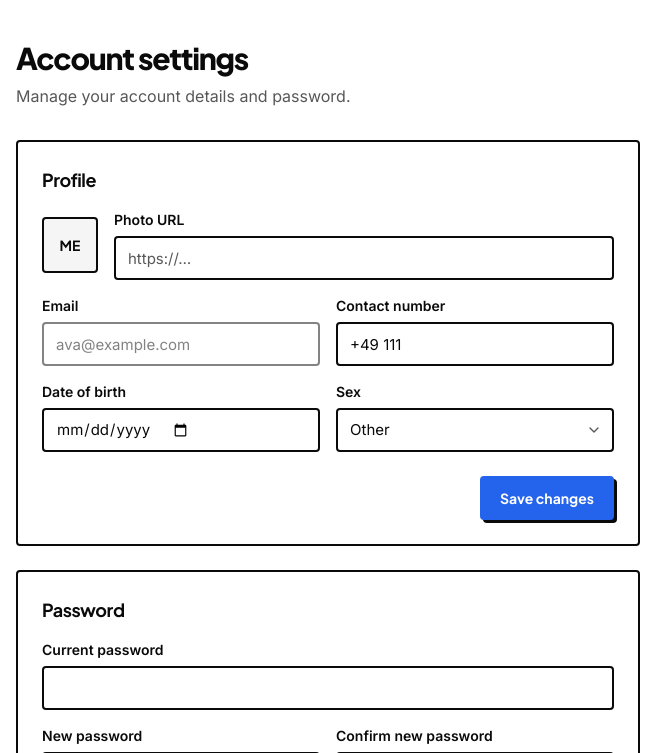
Test: Settings › changes the password, posting current/new and toasting on success
The width and height of the screenshot is (657, 753).
Type "oldpassword1" into the password field labelled "Current password" at (328, 688), box [42, 666, 614, 710]
(page scrolled)
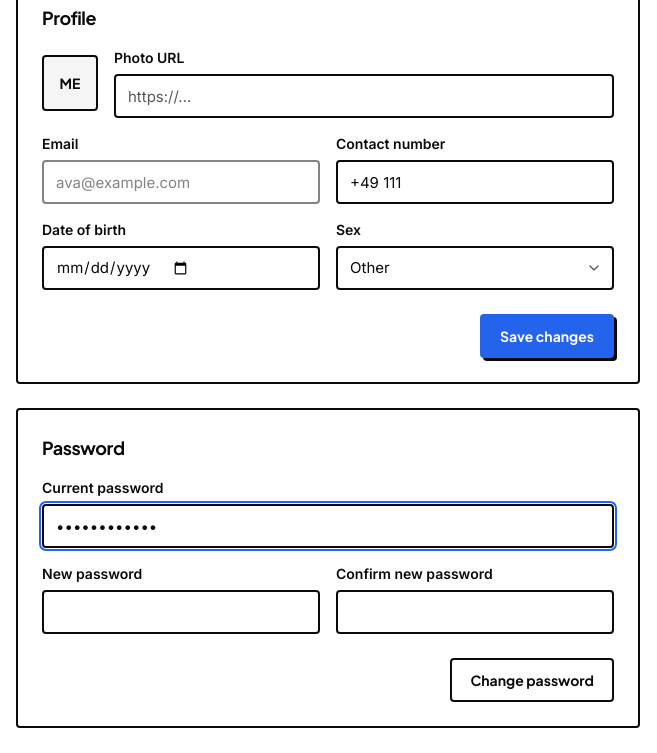
Type "newpassword1" into the password field labelled "New password" at (181, 612), box [42, 590, 320, 634]
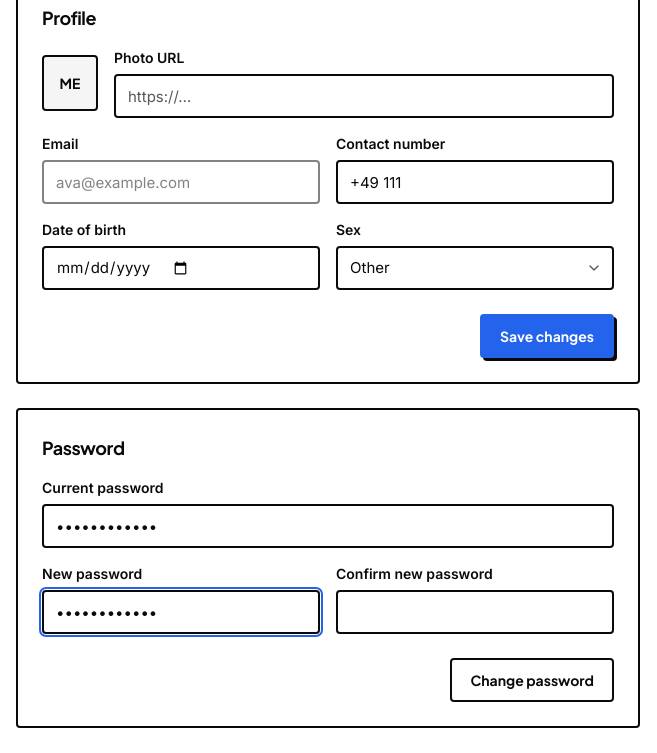
Type "newpassword1" into the password field labelled "Confirm new password" at (475, 612), box [336, 590, 614, 634]
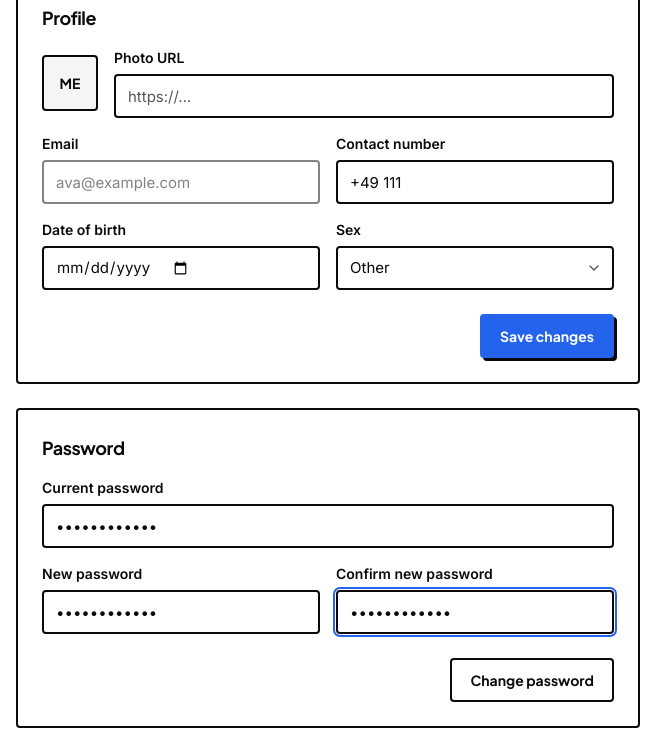
Click the button "Change password" at (532, 680), box [450, 658, 614, 702]
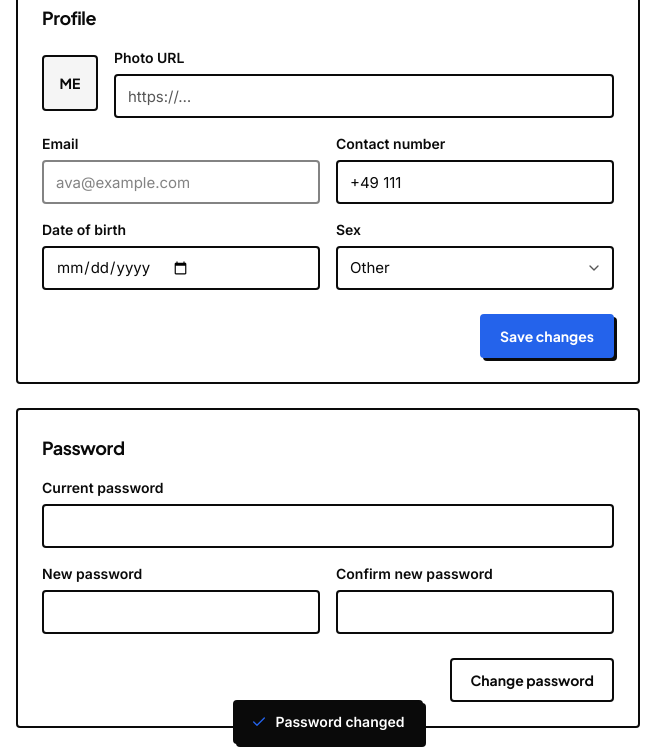
Result: the text "Password changed" is shown at [234, 700, 422, 744]
